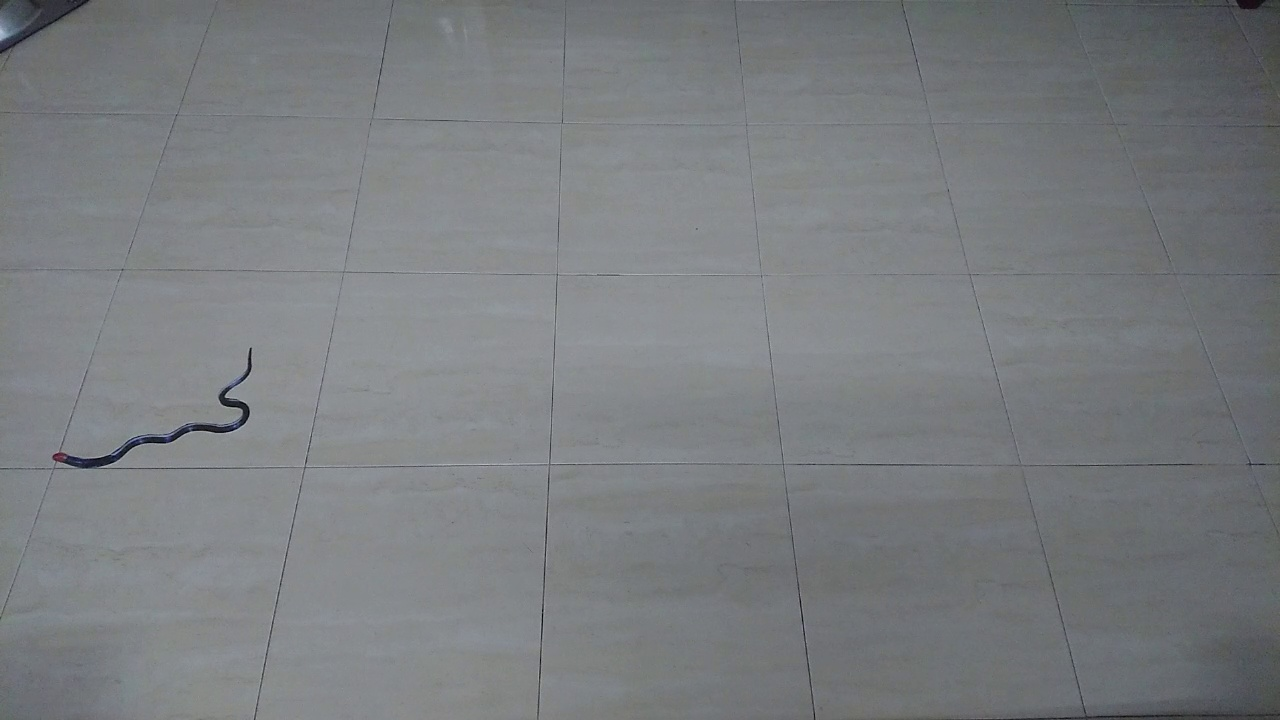snake: (46, 331, 281, 479)
